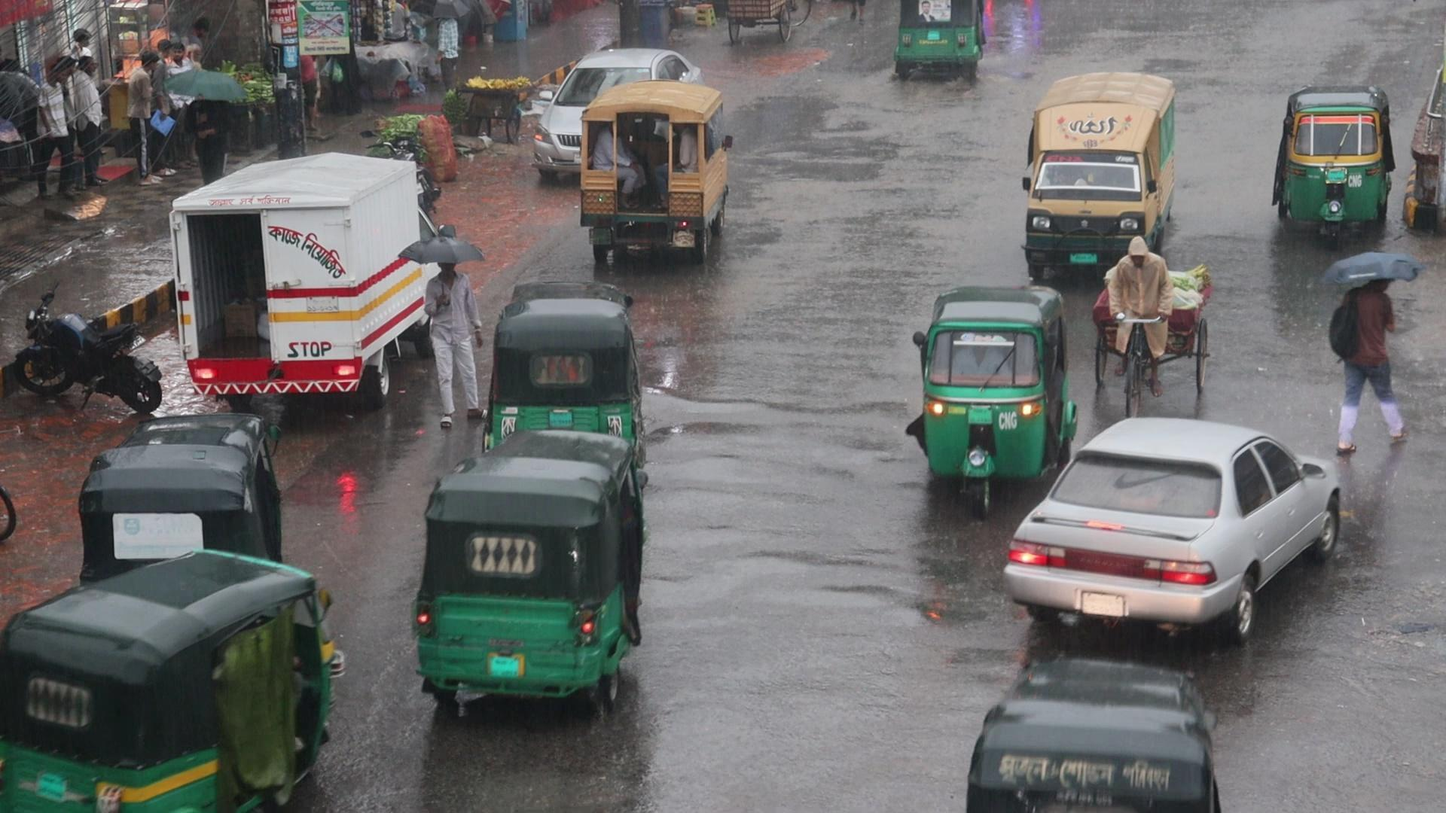Car: (997, 408, 1356, 659)
Truck: (1017, 72, 1178, 275), (572, 76, 733, 270)
